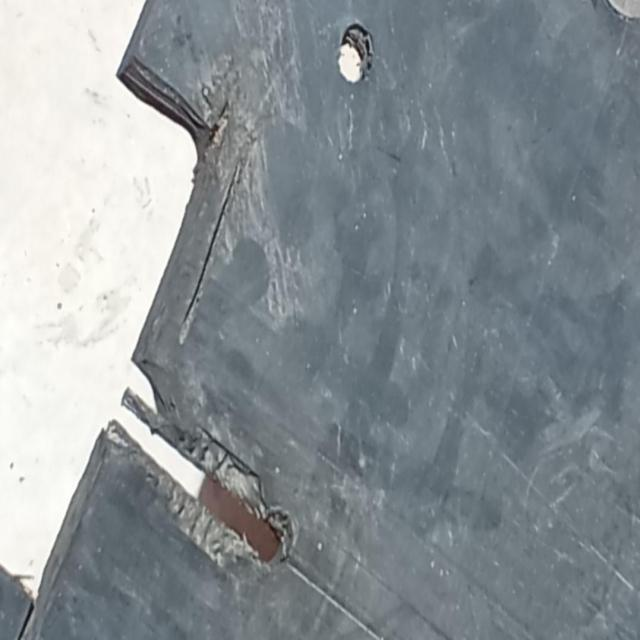Hole: (334, 17, 382, 93)
Tear: (0, 56, 302, 640), (173, 158, 251, 348)
